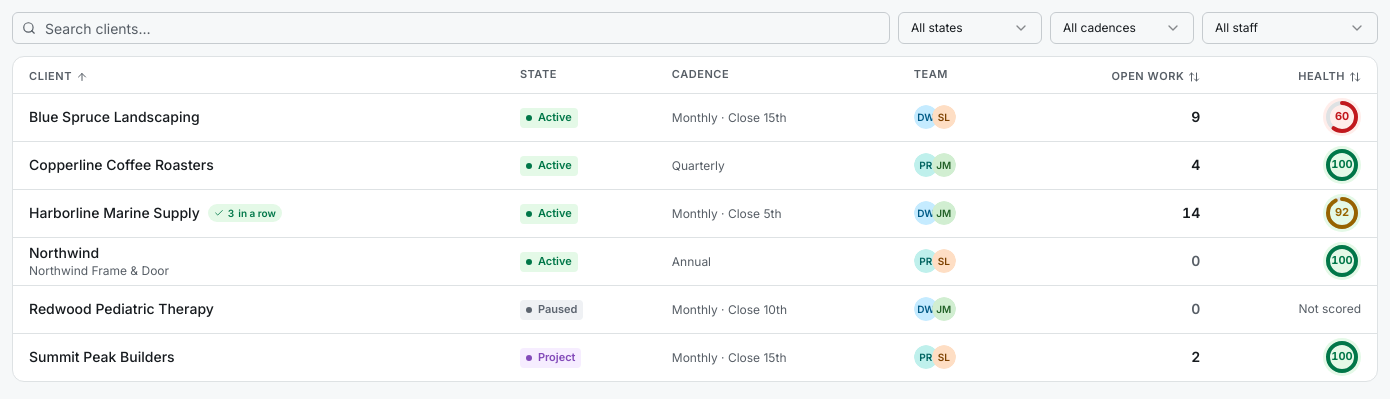
Test: ClientsTable › filters by search text across legal name and DBA
The image size is (1390, 399).
Type "spruce" into the field labelled "Search clients" at (451, 28), box top-left (12, 12), bottom-right (890, 44)
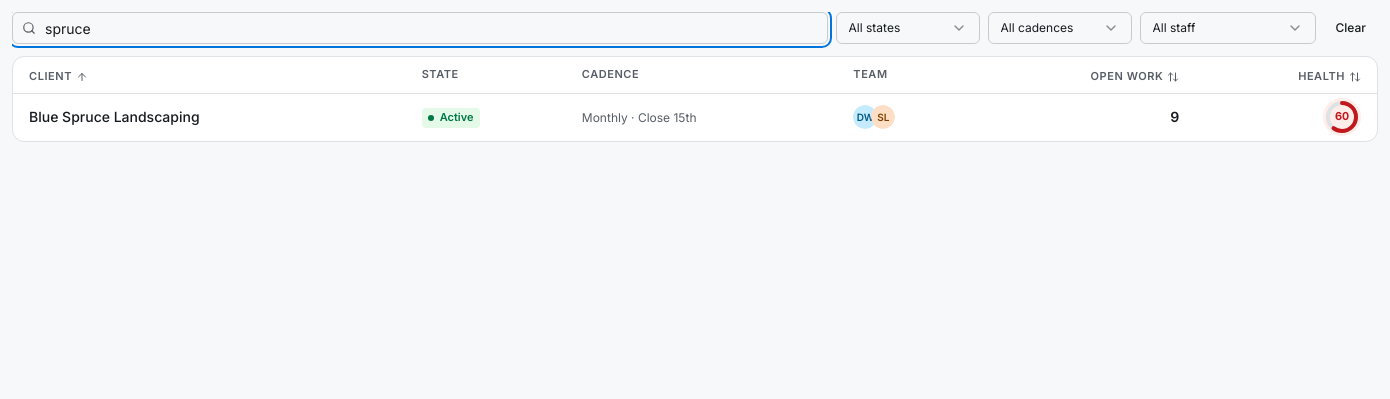
Expected: the text "Blue Spruce Landscaping" is shown, top-left (29, 107), bottom-right (200, 127)
Now the number of rows with test id "client-row" is 1, box top-left (13, 93), bottom-right (1377, 141)
Clear the field named "Search clients" at (420, 28), box top-left (12, 12), bottom-right (828, 44)
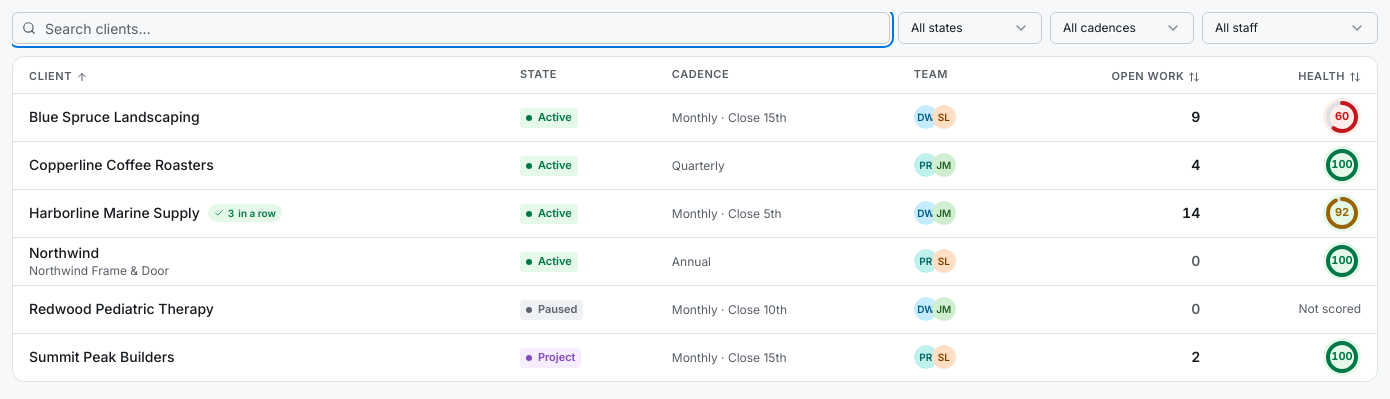
Type "zzz" into the field labelled "Search clients" at (451, 28), box top-left (12, 12), bottom-right (890, 44)
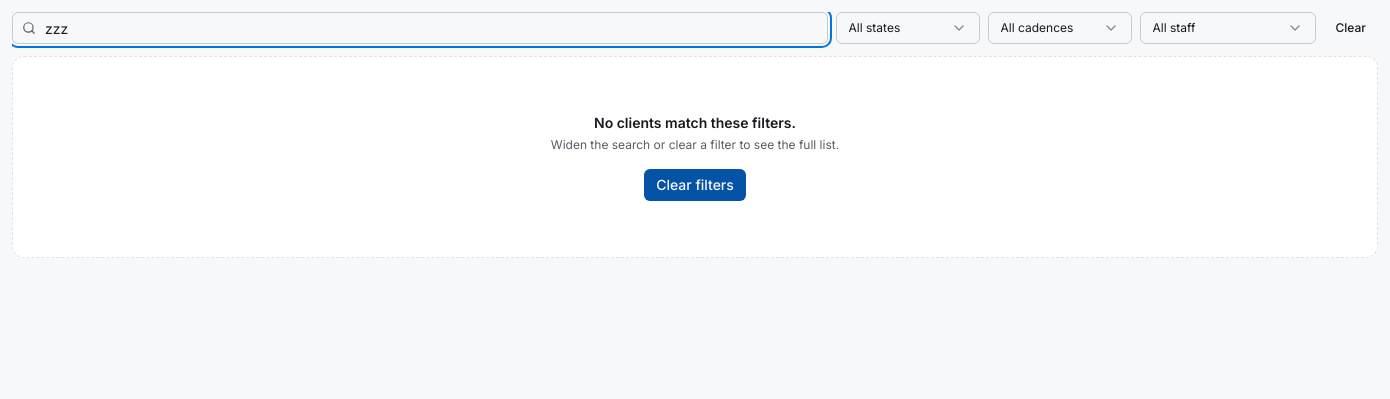
Now no rows with test id "client-row" are shown
Now the text "No clients match these filters." is shown, box top-left (594, 113), bottom-right (796, 133)
Click the button "Clear filters" at (695, 185), box top-left (644, 169), bottom-right (746, 201)
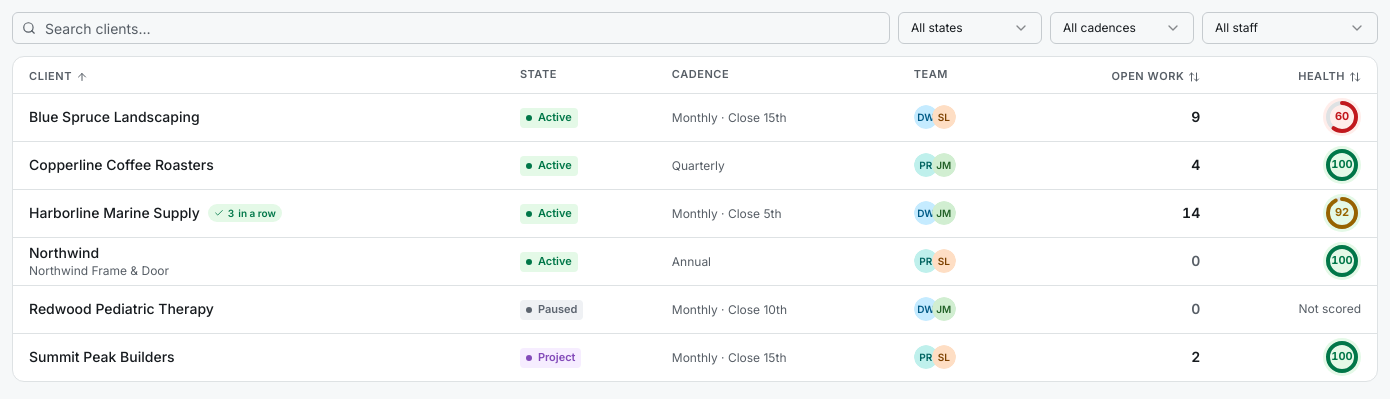
Now the number of rows with test id "client-row" is 6, box top-left (13, 93), bottom-right (1377, 141); top-left (13, 141), bottom-right (1377, 189); top-left (13, 189), bottom-right (1377, 237); top-left (13, 237), bottom-right (1377, 285); top-left (13, 285), bottom-right (1377, 333); top-left (13, 333), bottom-right (1377, 381)
